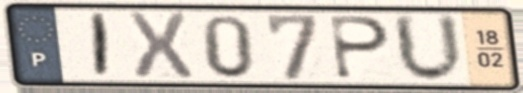0: (198, 13, 258, 80)
7: (262, 11, 322, 83)
I: (91, 11, 111, 80)
P: (327, 14, 393, 83)
U: (389, 11, 468, 86)
X: (123, 10, 197, 82)
